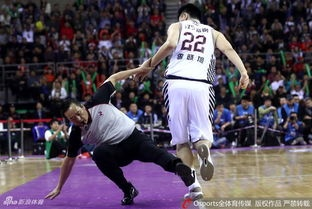falling: (37, 48, 208, 205)
